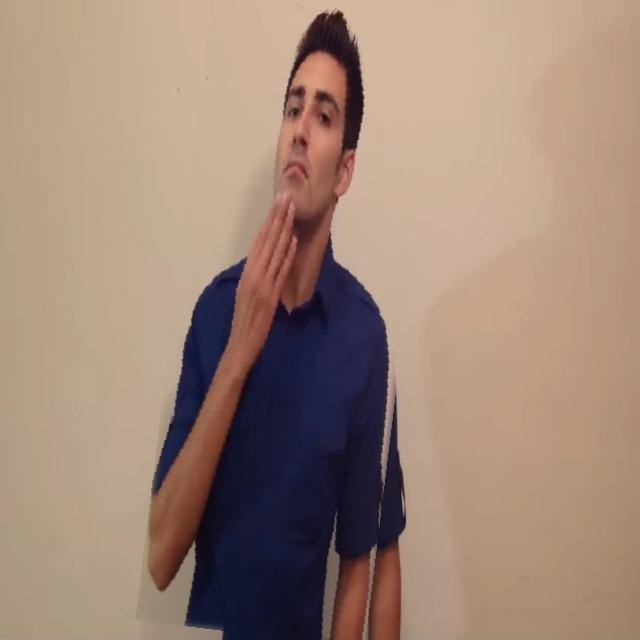ThankYou: (154, 0, 422, 640)
